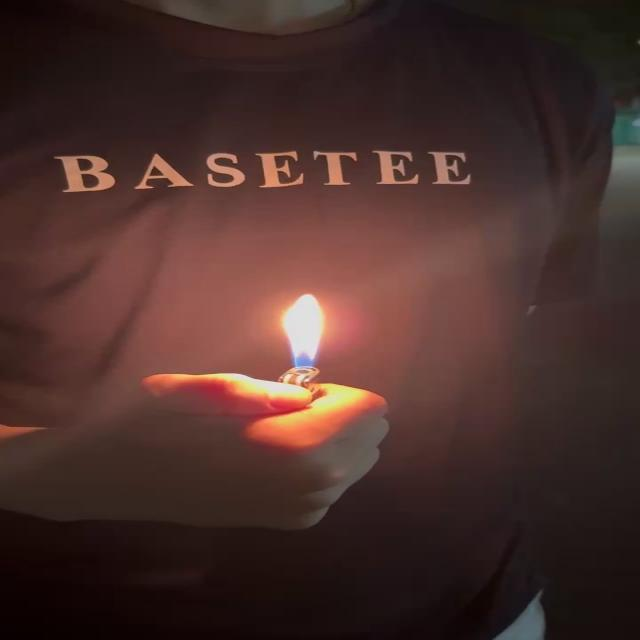Fire: (283, 293, 334, 370)
